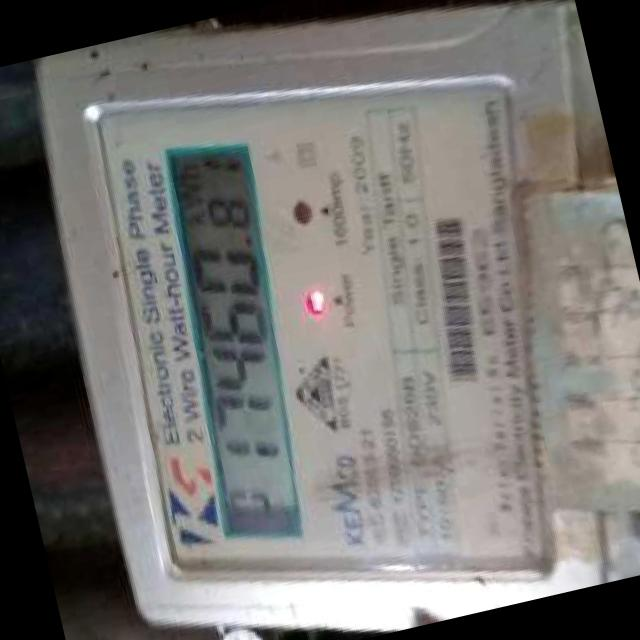LCD: (132, 134, 342, 552)
